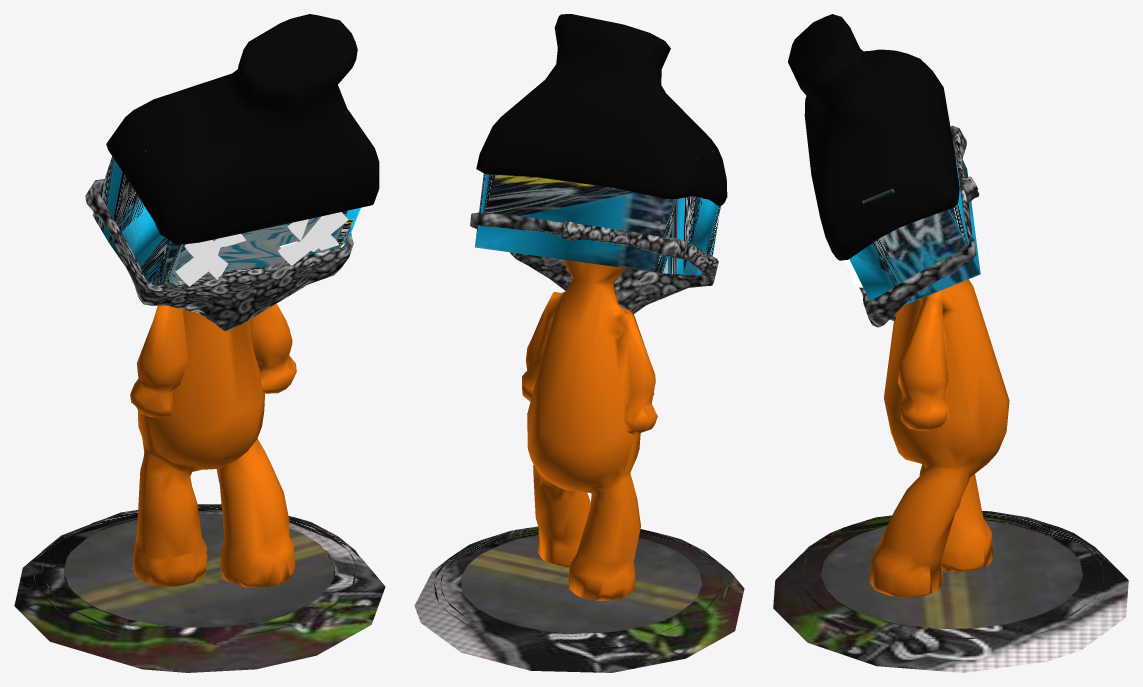
3 renders of one model, left to right at view 1: azimuth 30°, elevation 25°; view 2: azimuth 150°, elevation 25°; view 3: azimuth 270°, elevation 25°, orthographic. The views are drawn at different scales.
Bounding box in the file's own units: 1.44 × 2.58 × 1.42.
Materials: 7 (4 with a texture image).
